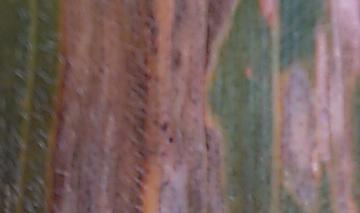tarspot: (167, 135, 174, 144)
